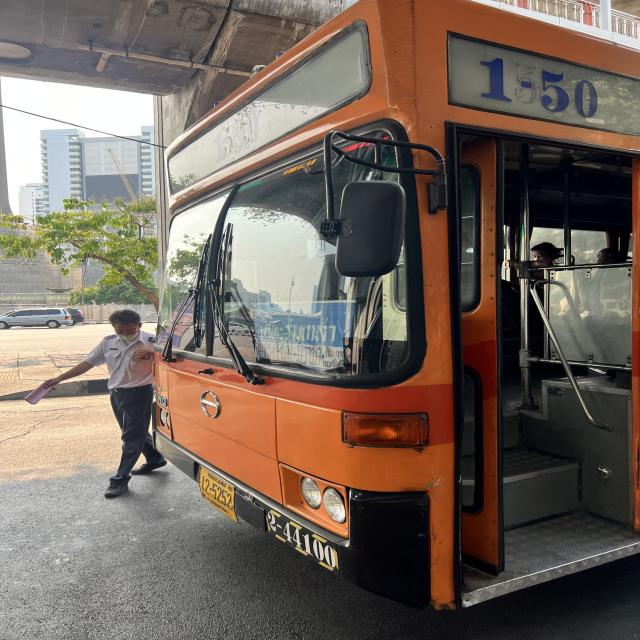BMTA-bus: (150, 0, 640, 614)
Bus-Line-Number: (467, 49, 605, 125), (207, 92, 270, 172)
Destination-Sign-Normal: (253, 300, 360, 370)
